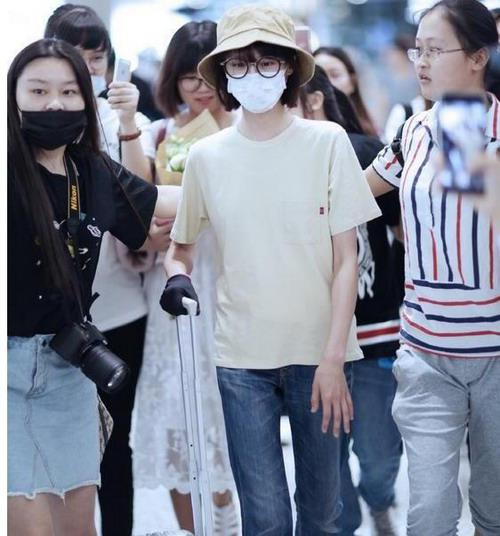NONE: (414, 34, 460, 102), (179, 67, 225, 118)
OK: (227, 51, 287, 111)
WRONG: (18, 76, 87, 148), (60, 40, 109, 96)
